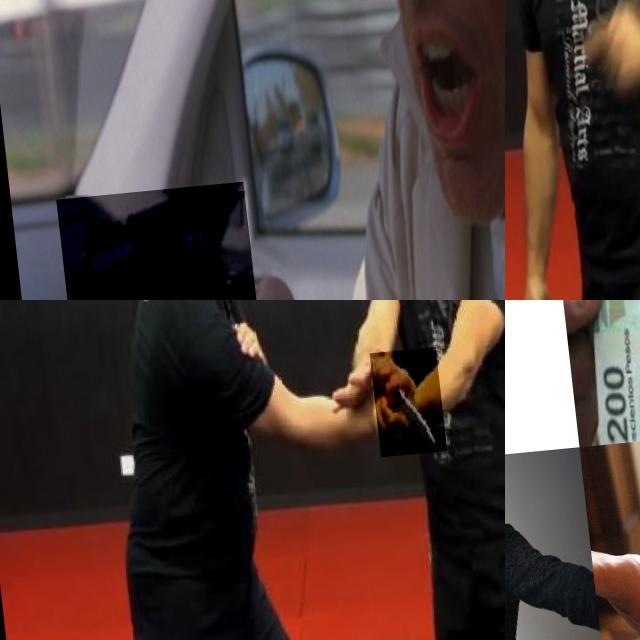-: (362, 356, 437, 466), (505, 96, 558, 212)
gun-knife-thesis - v11 Yolov5 augmented: (45, 186, 248, 300)
